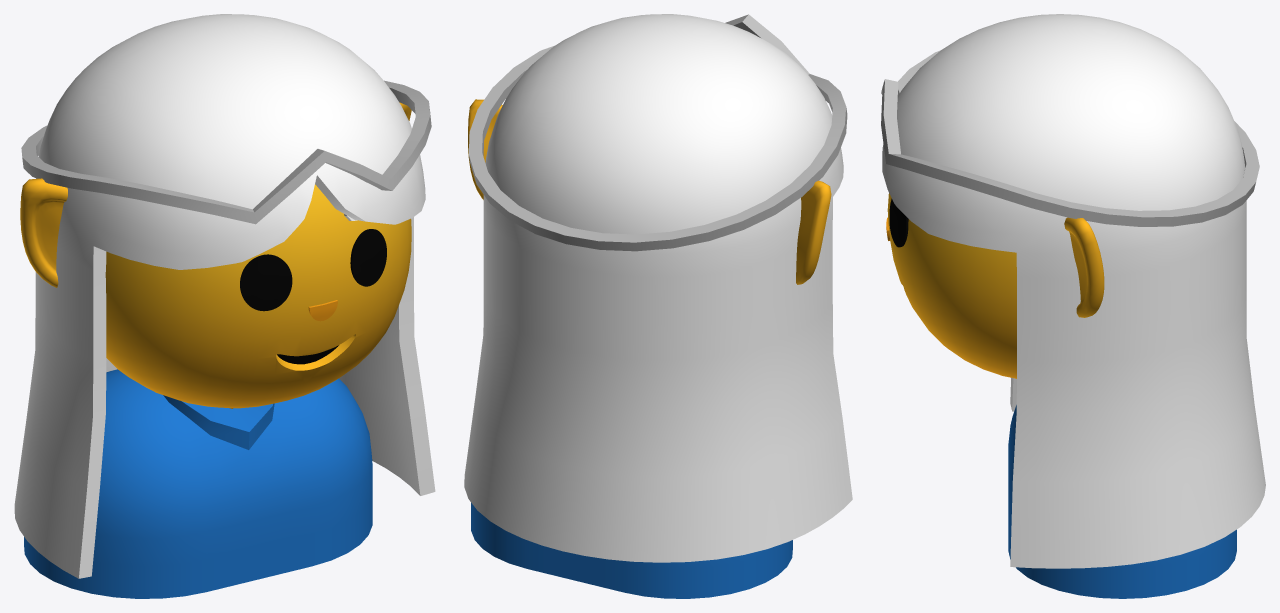
Rendered from man_elf.fbx.
3 views of the same model, side by side, from view 1: azimuth 30°, elevation 25°; view 2: azimuth 150°, elevation 25°; view 3: azimuth 270°, elevation 25° (orthographic). The views are drawn at different scales.
Visible parts, largest first — view 1: Roundcube.228, Sphere.179, Roundcube.227, Circle.1066, Circle.1063, Cylinder.192; view 2: Roundcube.228, Circle.1066, Sphere.179, Cylinder.192; view 3: Roundcube.228, Roundcube.227, Circle.1066, Sphere.179, Cylinder.192, Circle.1063.
Part boxes in pixels (box(x1,y1,x2,y2)): Roundcube.228: box(14, 14, 435, 578); Sphere.179: box(24, 369, 372, 598); Roundcube.227: box(105, 184, 411, 408); Circle.1066: box(21, 80, 431, 224); Circle.1063: box(240, 229, 386, 311); Cylinder.192: box(20, 102, 411, 287); Roundcube.228: box(464, 14, 852, 562); Circle.1066: box(469, 14, 847, 251); Sphere.179: box(471, 502, 792, 598); Cylinder.192: box(468, 99, 831, 284); Roundcube.228: box(882, 14, 1265, 568); Roundcube.227: box(887, 193, 1016, 378); Circle.1066: box(881, 50, 1259, 226); Sphere.179: box(1008, 405, 1236, 598); Cylinder.192: box(1064, 217, 1104, 317); Circle.1063: box(889, 198, 908, 247).
Size of the model in its own units: 185 by 237 by 168.
Materials: 2 (2 with a texture image).
